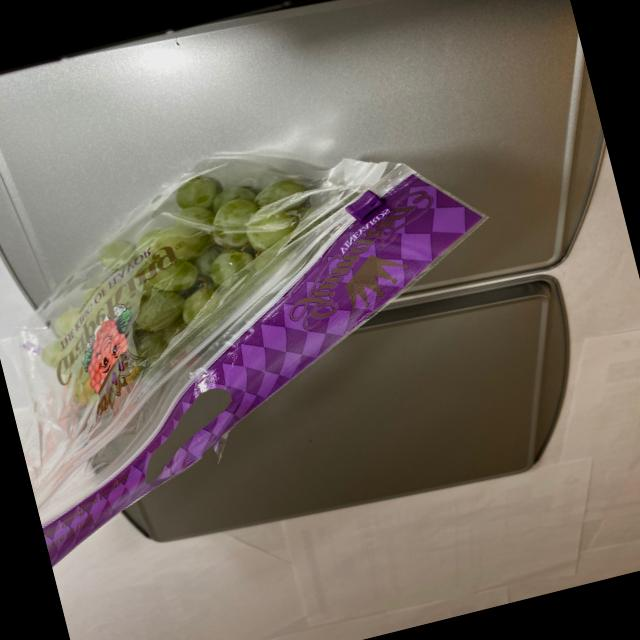grapes: (9, 143, 364, 410)
